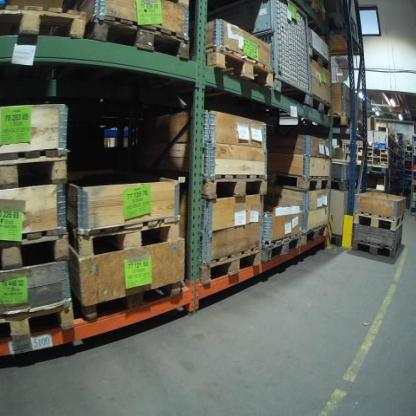pallet: (89, 9, 195, 64), (70, 216, 181, 264), (194, 240, 267, 290), (205, 44, 283, 90), (2, 0, 92, 38), (201, 172, 271, 202), (352, 210, 409, 232)
